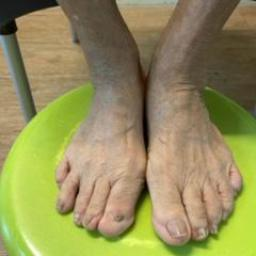Dorsal View -Both Feet-: (42, 12, 250, 252)
